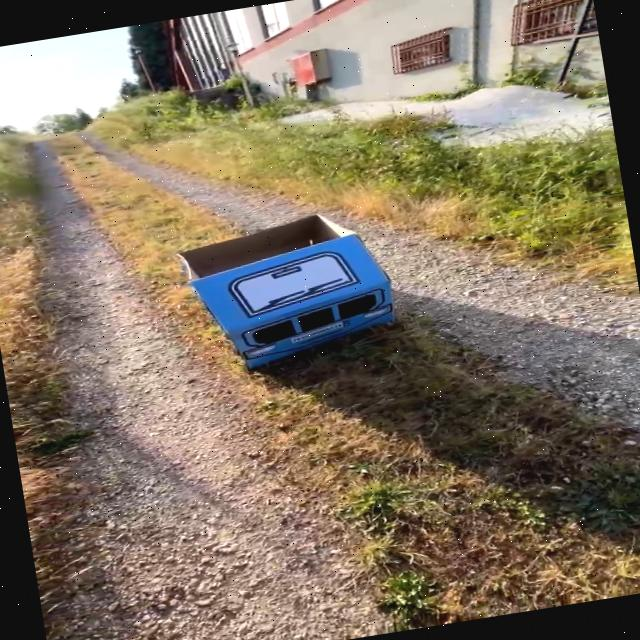blue_car: (151, 181, 448, 407)
